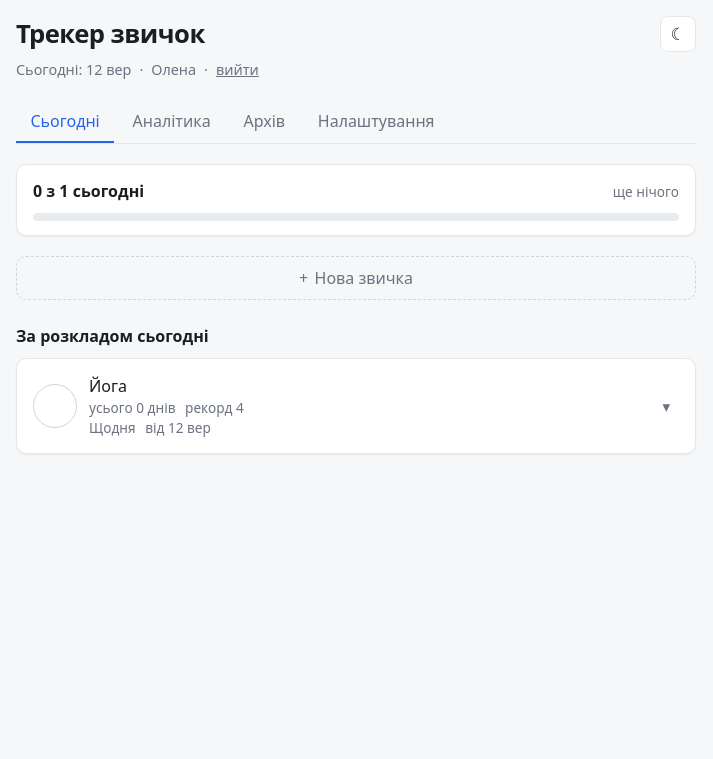
Історія, архів та аналітика › аналітика показує помилку історії з повторенням і рахує весь час з архівом
The width and height of the screenshot is (713, 759).
Click the tab "Аналітика": coordinates (172, 122) 118,101 -> 225,143
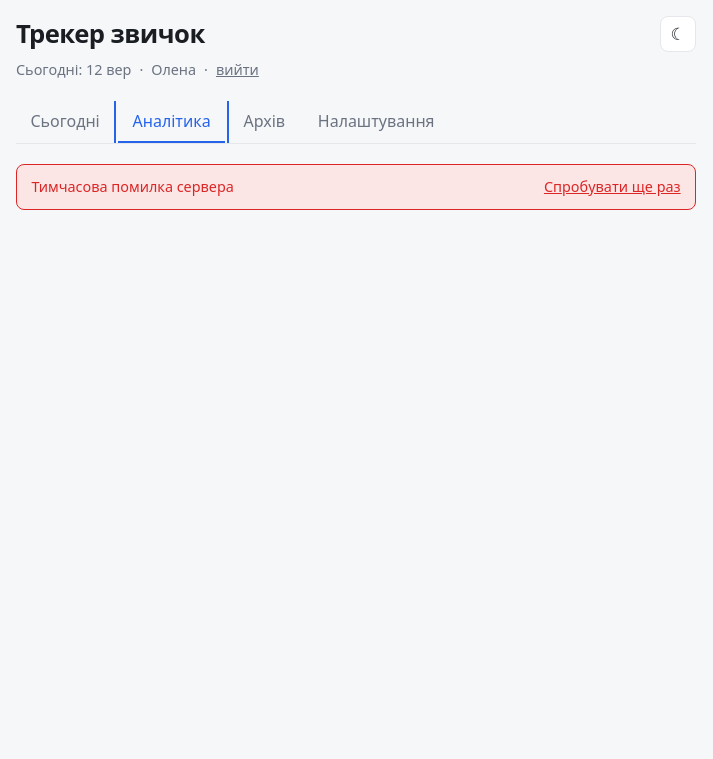
Check: the text "відміток за весь час" is not shown
Check: the message shows "Тимчасова помилка", box 31,177 -> 234,196
Click the button "Спробувати ще раз": coordinates (612, 187) 544,176 -> 681,197
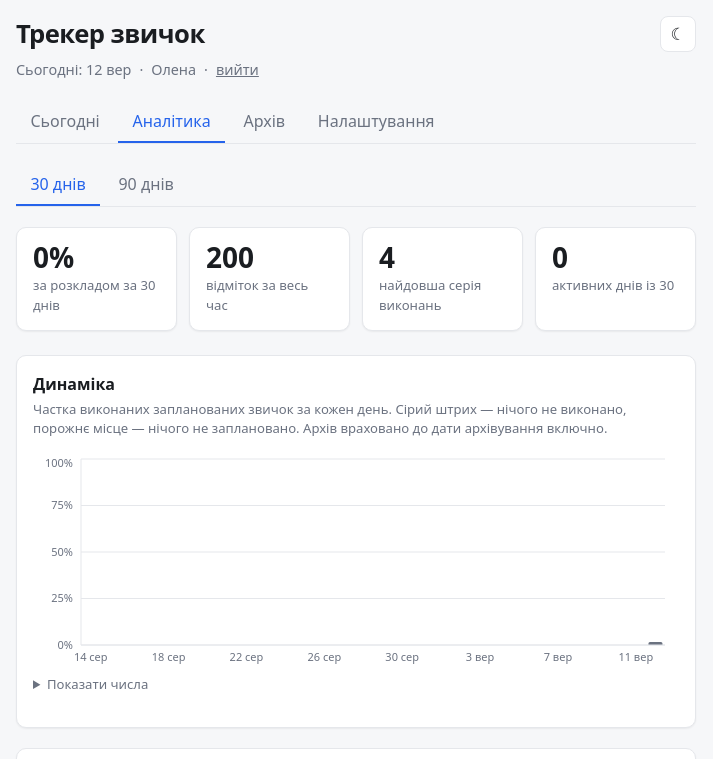
Check: the text "200" is shown, box 206,238 -> 254,276
